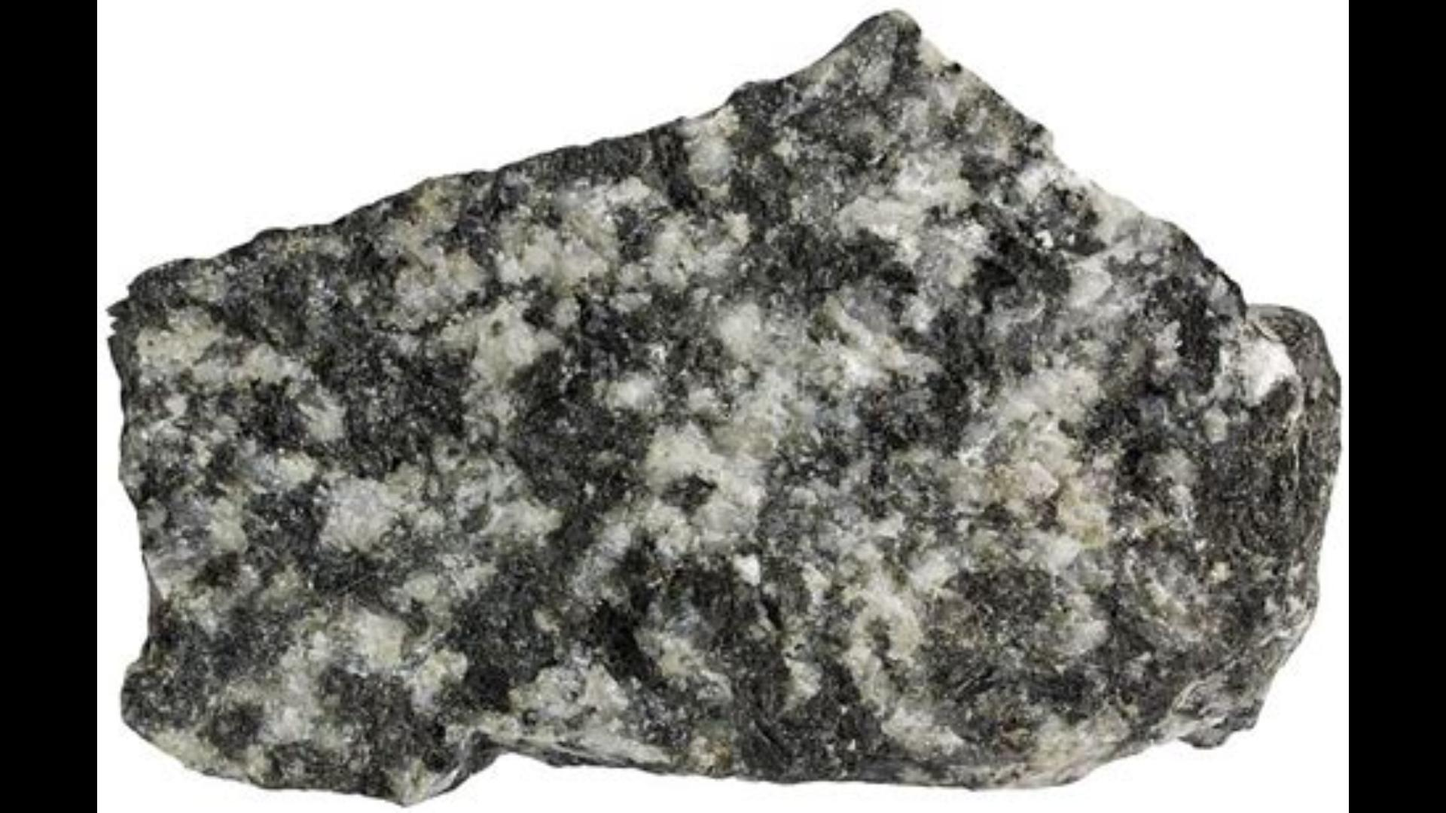rock: (110, 16, 1336, 800)
